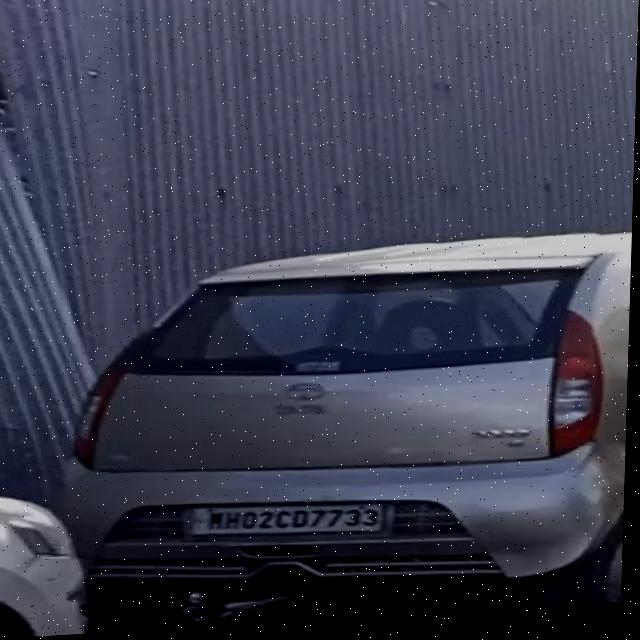plate: (190, 502, 403, 547)
